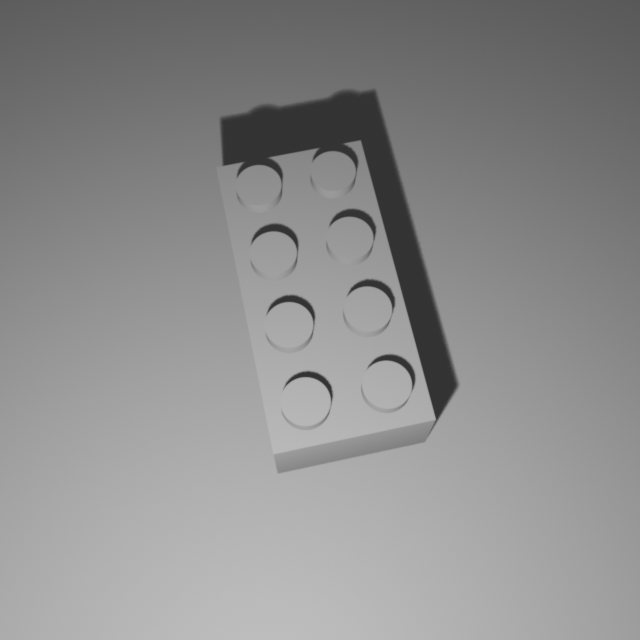lego_2x4: (215, 132, 438, 474)
